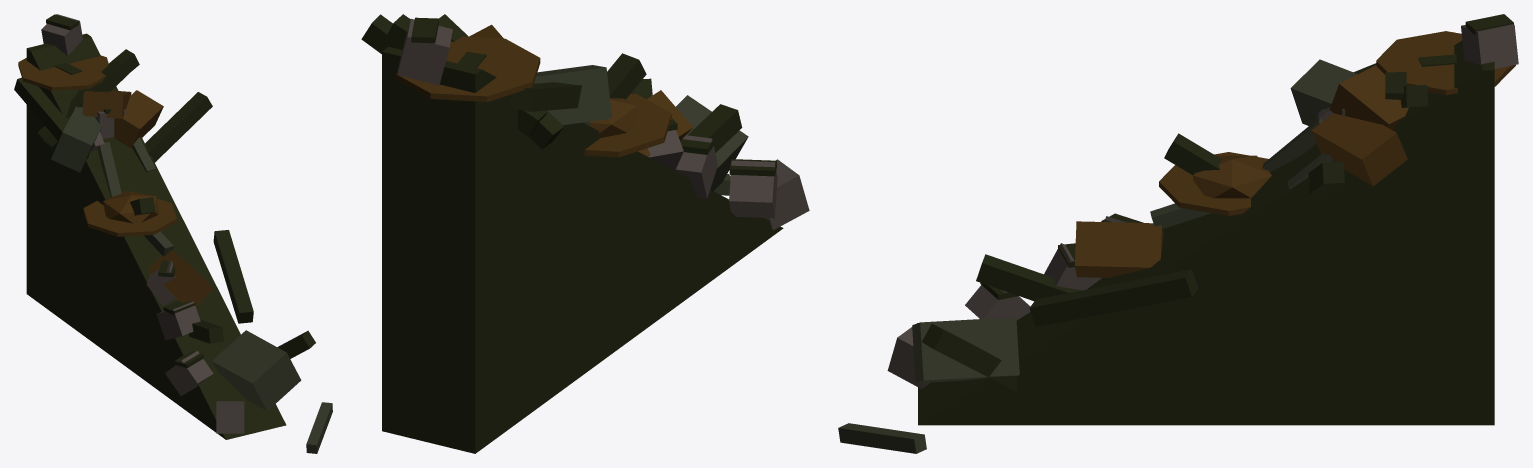
The model's file is SM_PilaZombi_Altura4_s2_LOD0.fbx.
3 renders of one model, left to right at view 1: azimuth 30°, elevation 25°; view 2: azimuth 150°, elevation 25°; view 3: azimuth 270°, elevation 25°, orthographic. The views are drawn at different scales.
Parts seen in each view (by area): view 1: SM_pila_zombis_v13_LOD0; view 2: SM_pila_zombis_v13_LOD0; view 3: SM_pila_zombis_v13_LOD0.
Boxes of the visible parts, x1,y1,x2,y2 form: SM_pila_zombis_v13_LOD0: [14, 14, 332, 453]; SM_pila_zombis_v13_LOD0: [361, 14, 809, 453]; SM_pila_zombis_v13_LOD0: [838, 14, 1518, 453].
Size of the model in its own units: 1.37 by 2.27 by 3.51.
